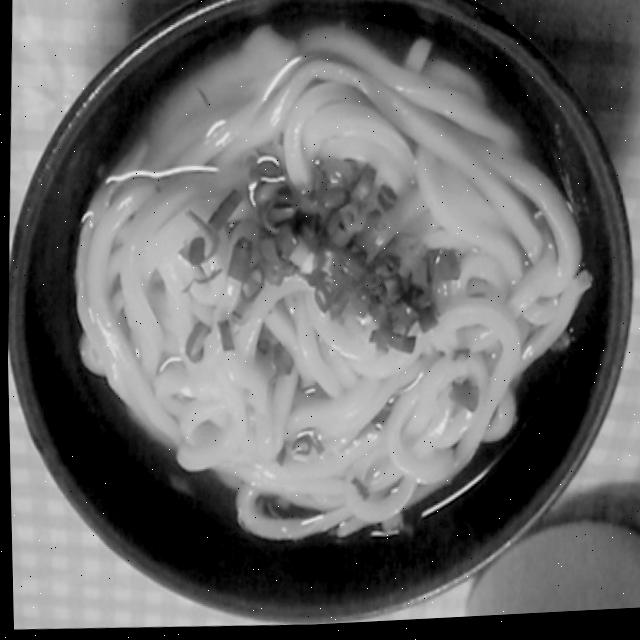面条主食: (26, 0, 640, 605)
